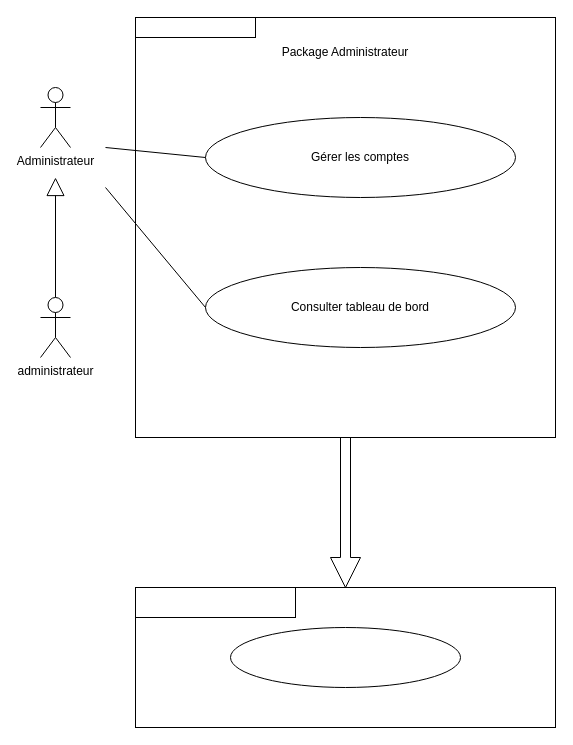
The diagram is 573 pixels wide and 745 high, and some of its shapes have lost their labels. Here are the shapes that lost their labels. From the top down, the centre of each, then its label:
At pixel 215 602: "Package second rang".
At pixel 345 657: "S'authentifier".
